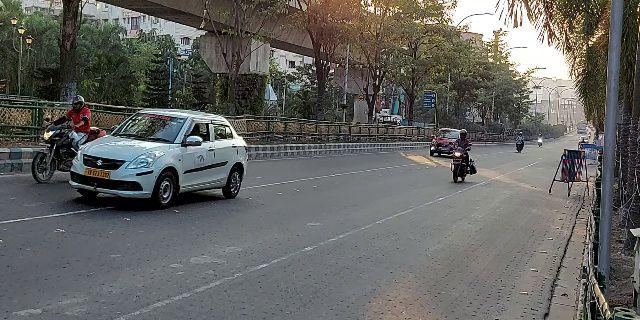Car: (68, 104, 250, 214), (427, 127, 457, 157)
Motorbike: (30, 94, 101, 182), (449, 128, 478, 187), (512, 129, 527, 155)
